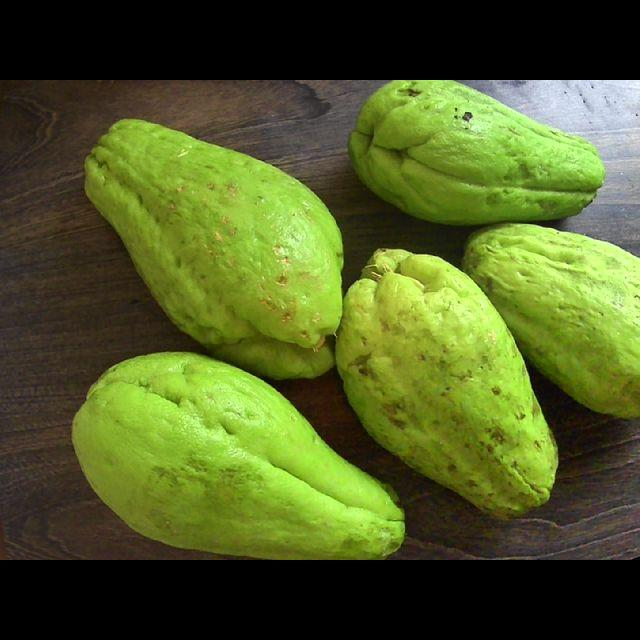chayote: (72, 352, 403, 559), (84, 120, 342, 377), (335, 249, 558, 517), (349, 80, 604, 223), (463, 223, 639, 418)
